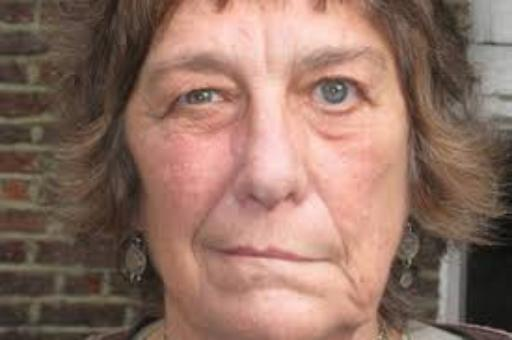left_eye: (304, 77, 373, 107)
left_lip_corner: (304, 248, 343, 275)
right_eye: (172, 87, 236, 110)
right_lip_corner: (198, 233, 225, 263)
